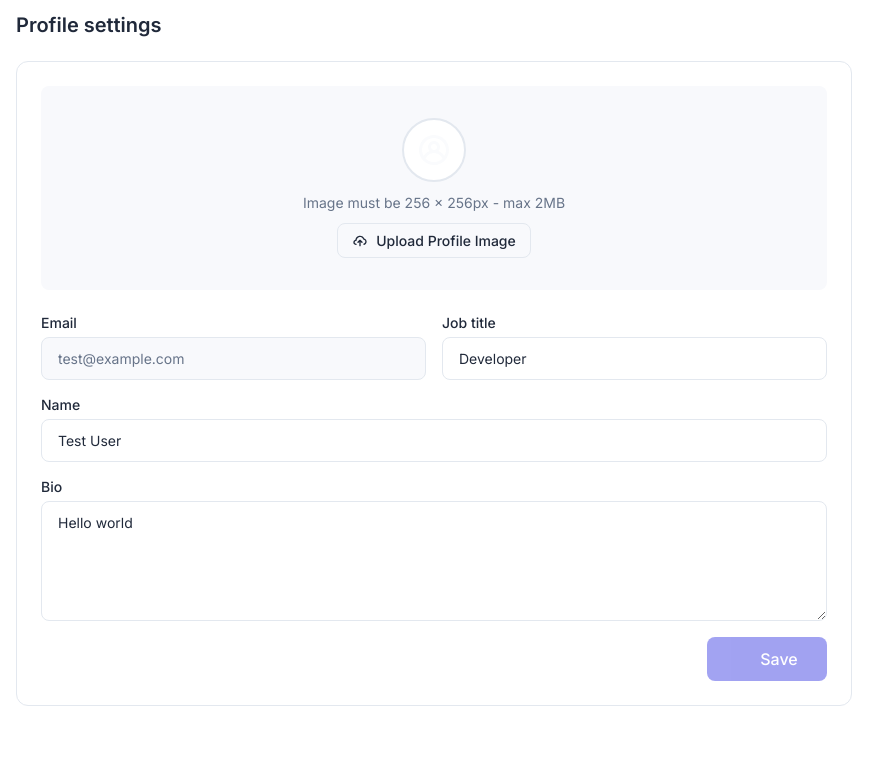
ProfileSettingsPage › shows success message after a successful save
Step 1. Type " edited" into the field with placeholder "Enter your name" below "Name" → (434, 440), box top-left (41, 419), bottom-right (827, 462)
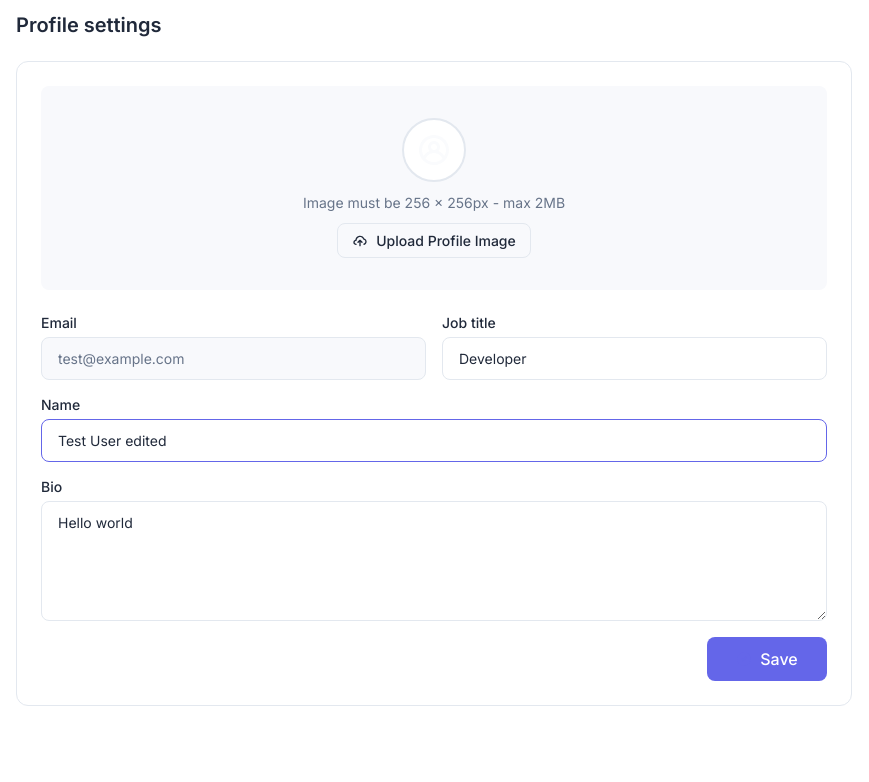
Step 2. Click the button "Save" → (767, 659), box top-left (707, 637), bottom-right (827, 681)
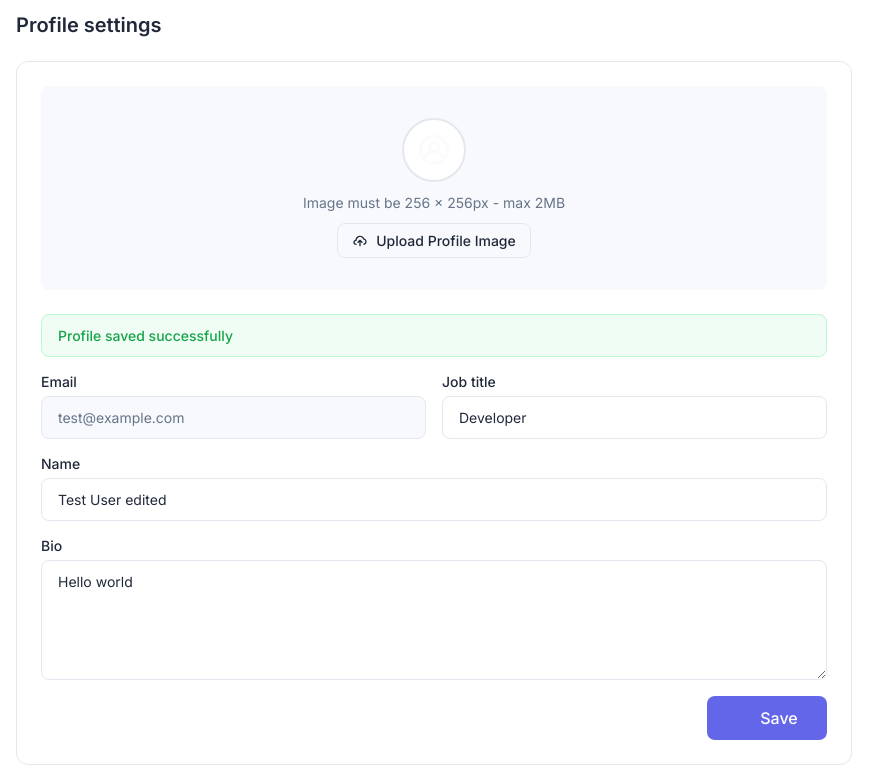
Result: the text "Profile saved successfully" is shown at top-left (41, 314), bottom-right (827, 357)
